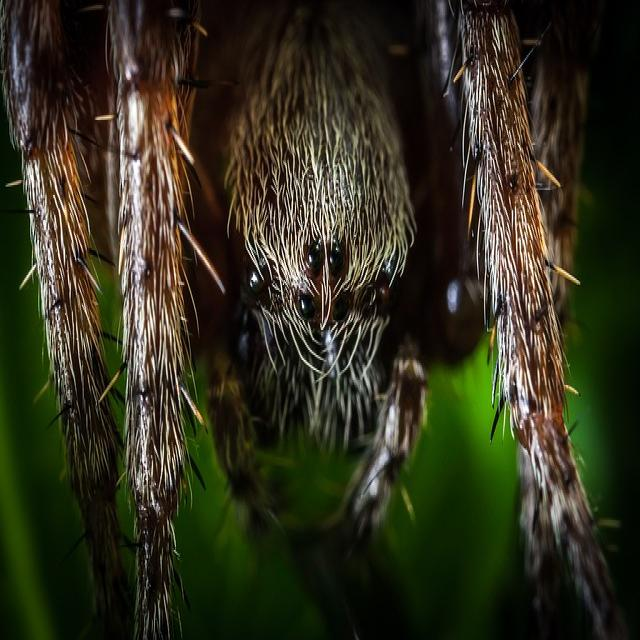spyder: (1, 0, 620, 638)
